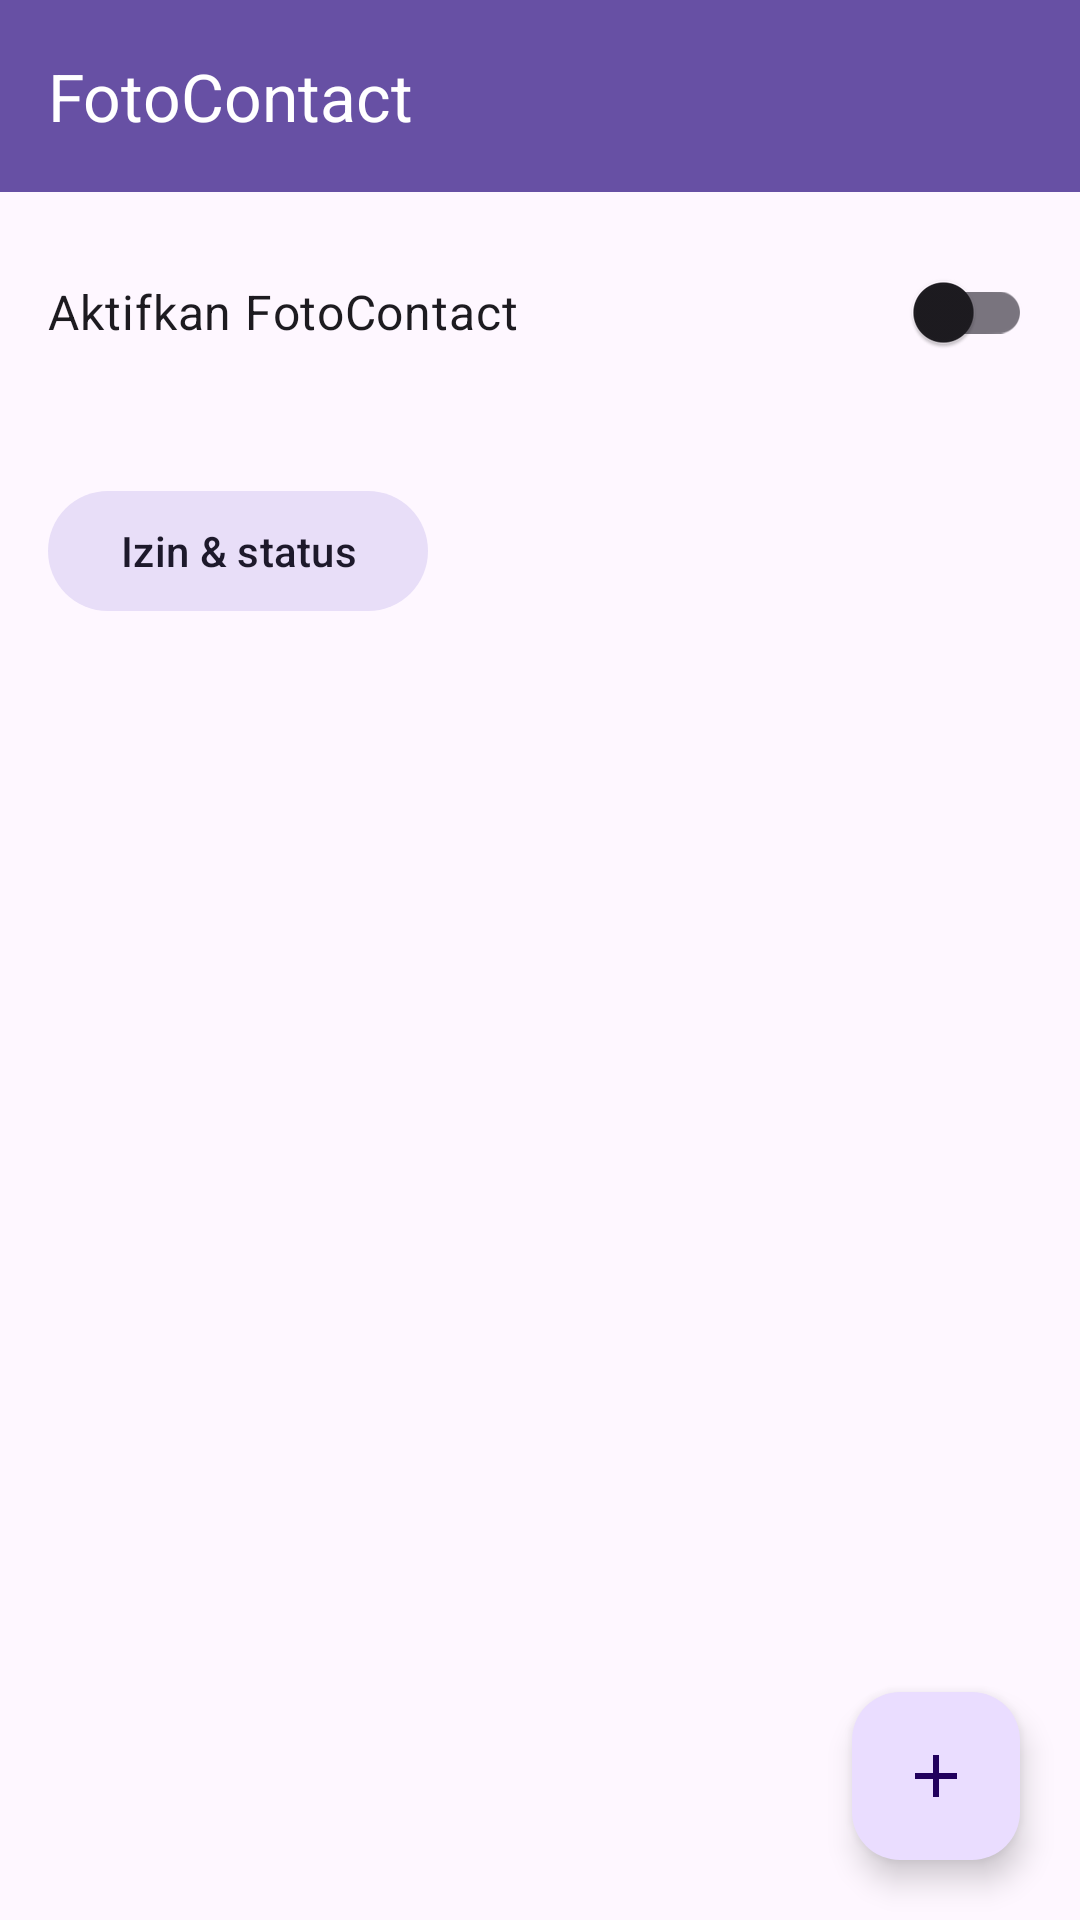

Icons on this 1080*1920 Android screen, each with the point to tap as [x,y]:
Tambah kontak: [936,1776]
